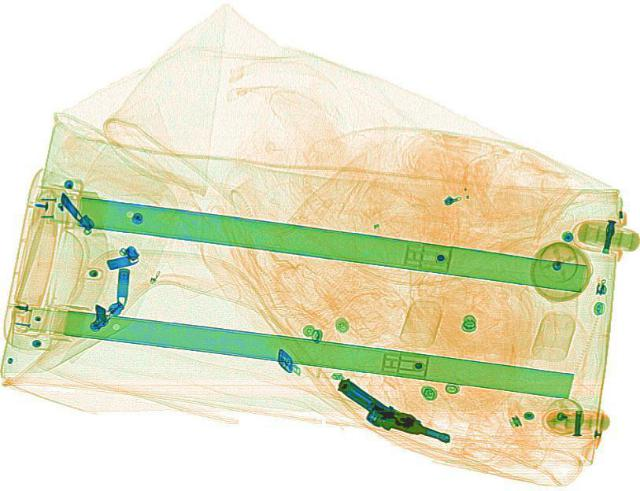Gun: (313, 373, 465, 447)
